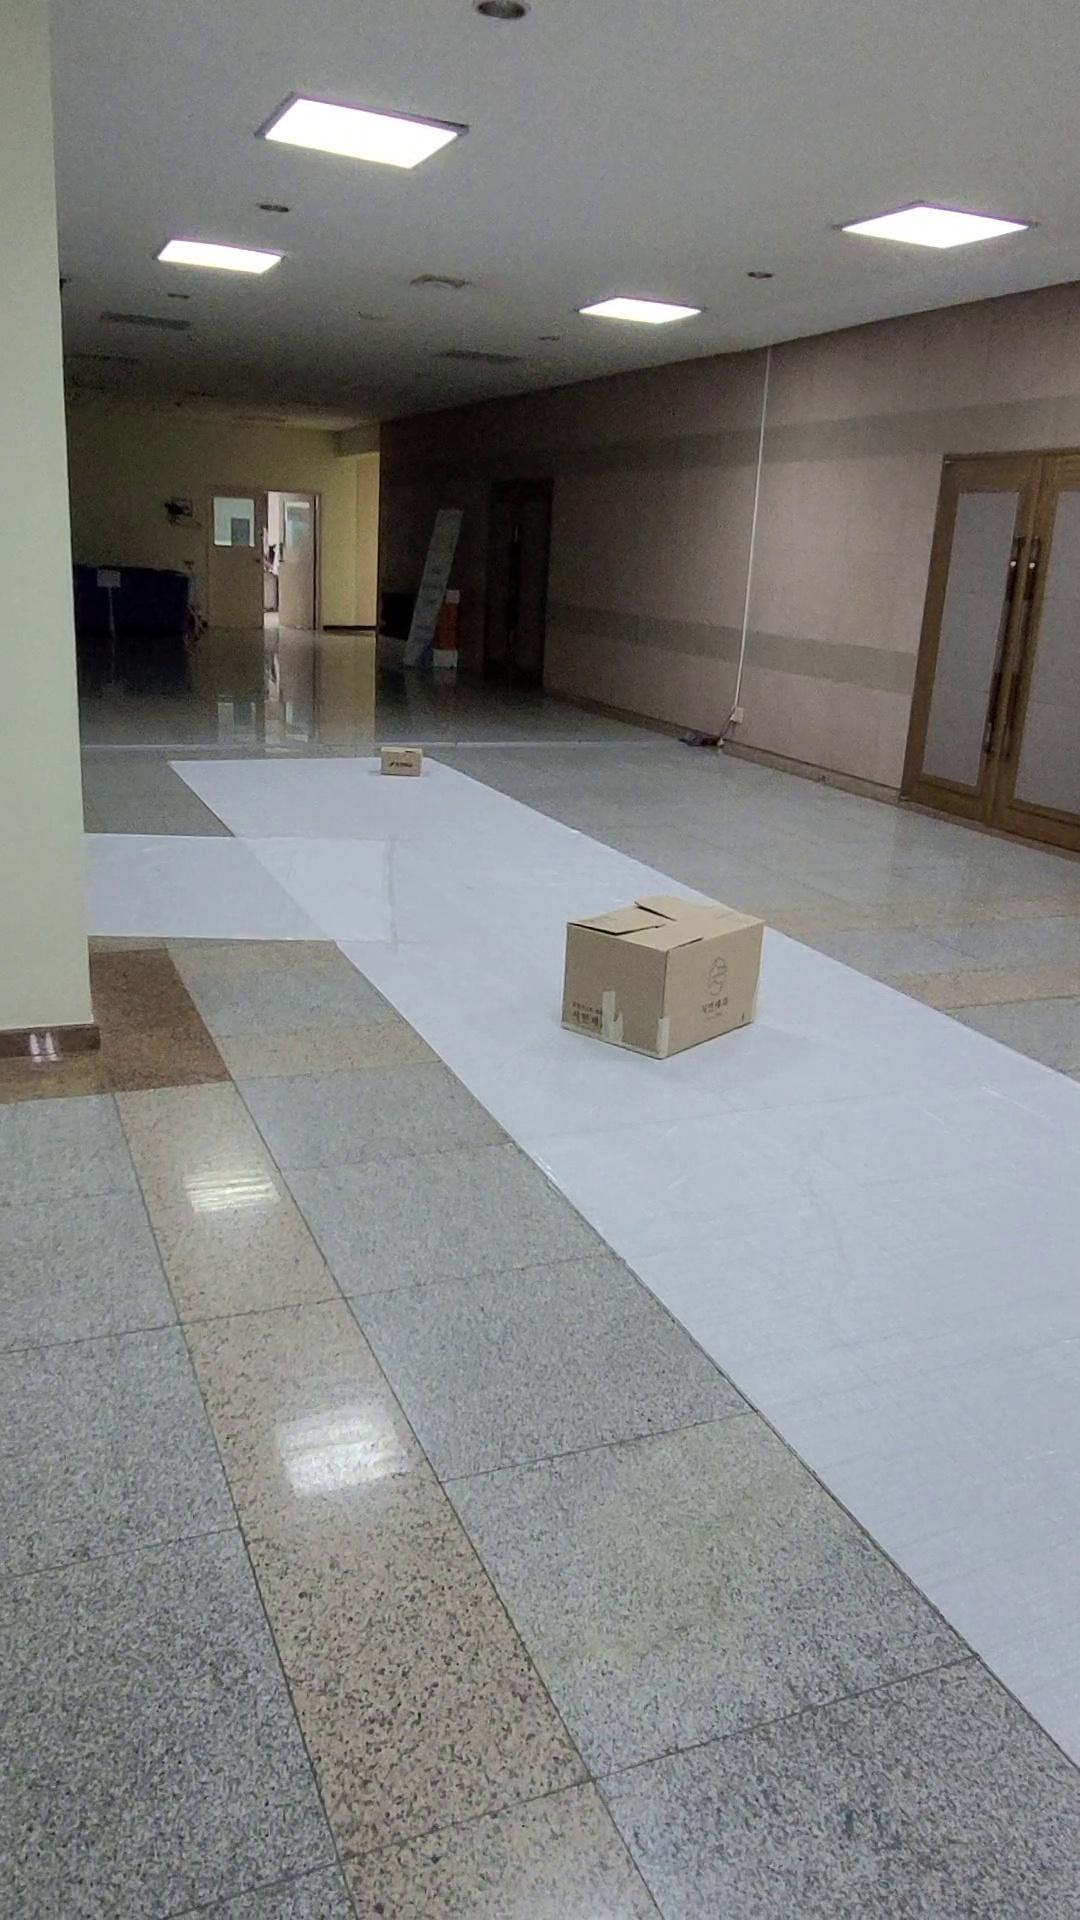Box: (541, 845, 793, 1095), (357, 713, 458, 798)
